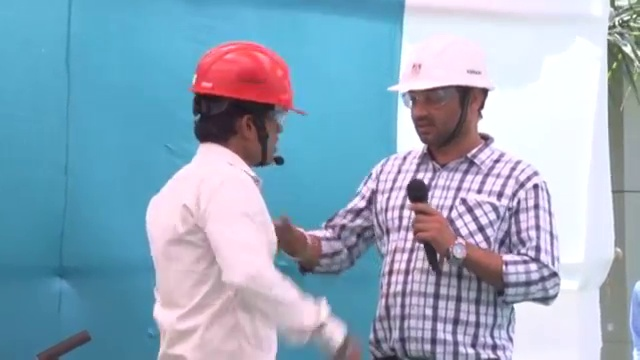helmet: (188, 38, 309, 117), (385, 30, 499, 96)
helmet_on: (186, 36, 310, 172), (384, 30, 500, 158)
person: (273, 30, 561, 360), (138, 38, 360, 360)
